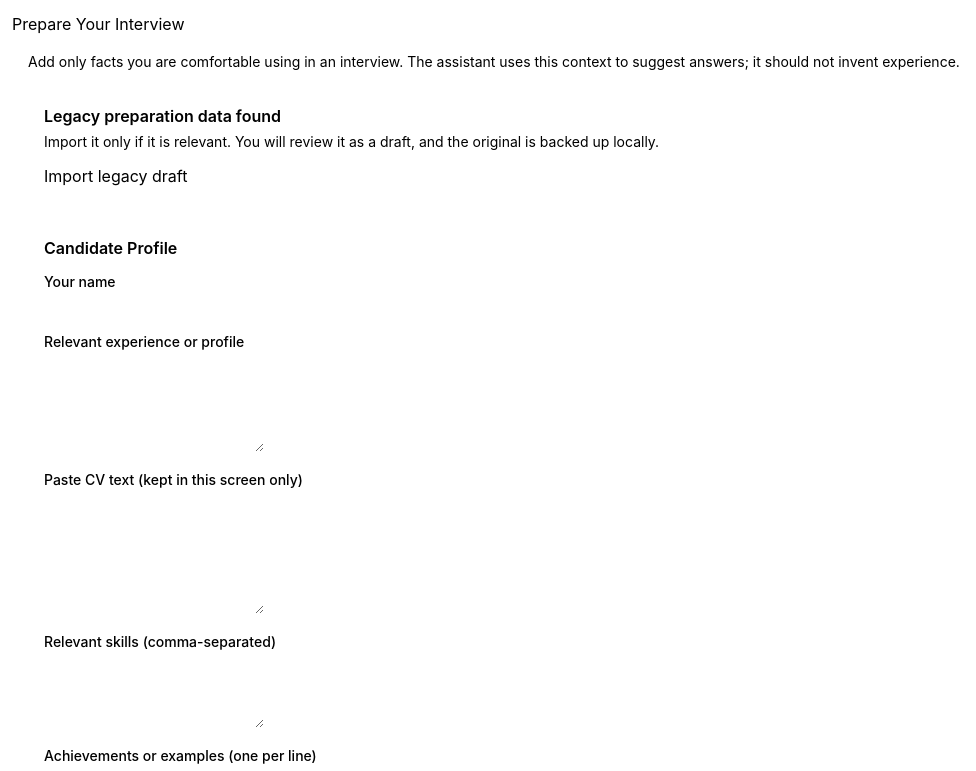
Test case: imports legacy data only after candidate confirmation and keeps a local backup
Check: the heading "Legacy preparation data found" is shown, box [44, 106, 281, 126]
Click the button "Import legacy draft" at (116, 176), box [44, 164, 188, 188]
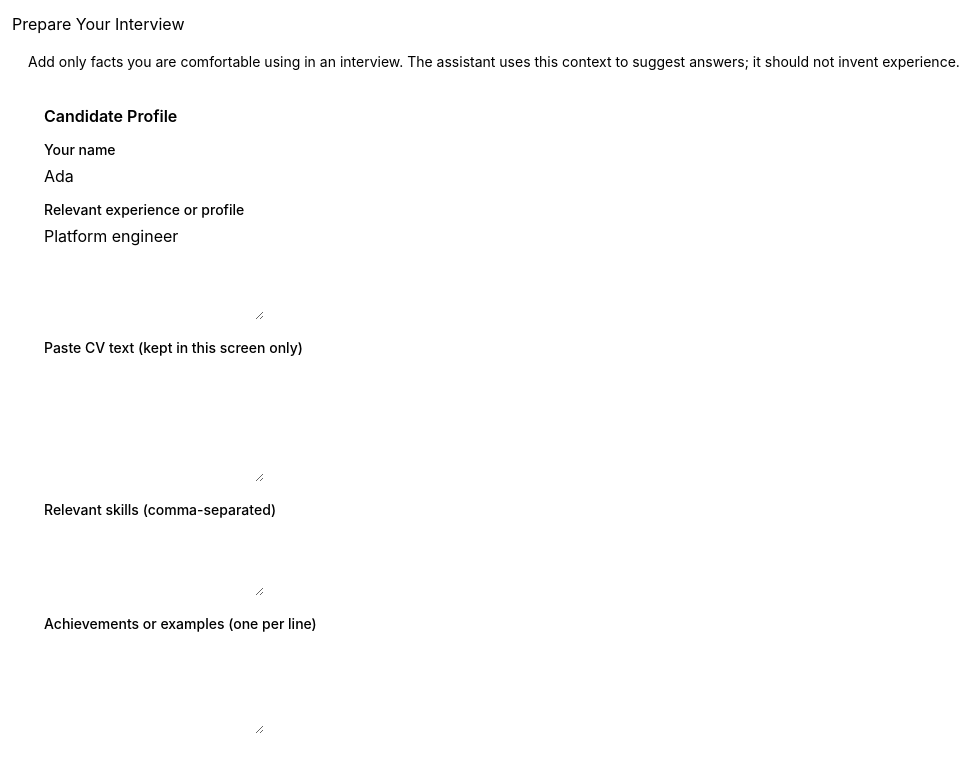
Check: the text box labelled "Achievements or examples (one per line)" is empty, box [44, 638, 264, 734]
Check: the field labelled "Your name" holds "Ada", box [44, 164, 292, 188]
Check: the text box labelled "Relevant experience or profile" holds "Platform engineer", box [44, 224, 264, 320]
